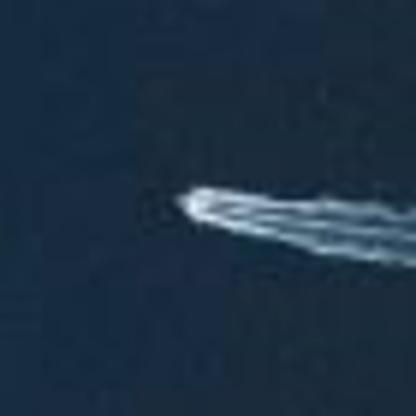ship: (153, 181, 208, 227)
